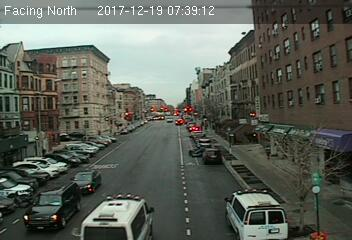car: (20, 184, 84, 225), (70, 168, 101, 189), (200, 147, 222, 162)
police: (75, 193, 160, 240), (225, 185, 288, 240)
